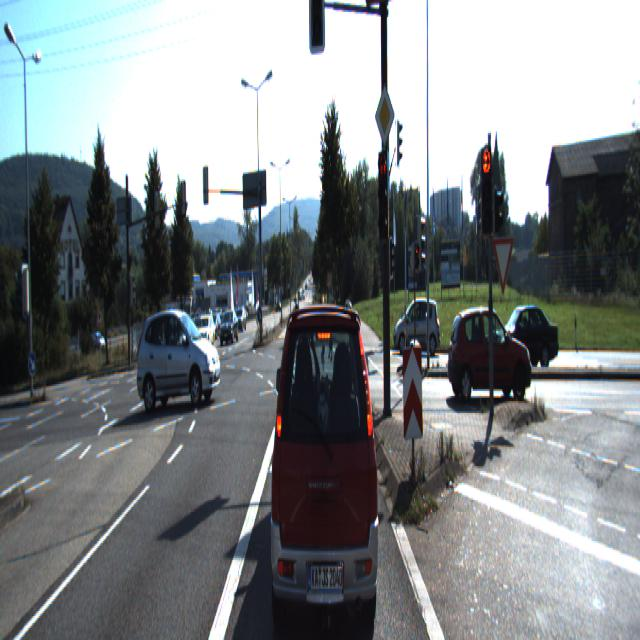Car: (267, 278, 381, 637), (136, 309, 223, 408), (449, 300, 533, 401), (488, 298, 560, 373), (394, 294, 439, 352), (172, 321, 193, 355), (195, 316, 215, 350), (219, 310, 239, 344)
